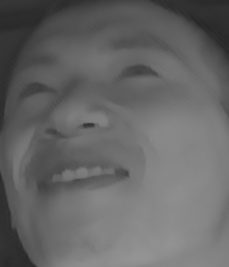eye: (111, 59, 163, 90), (14, 78, 59, 103)
mouth: (30, 153, 137, 202)
